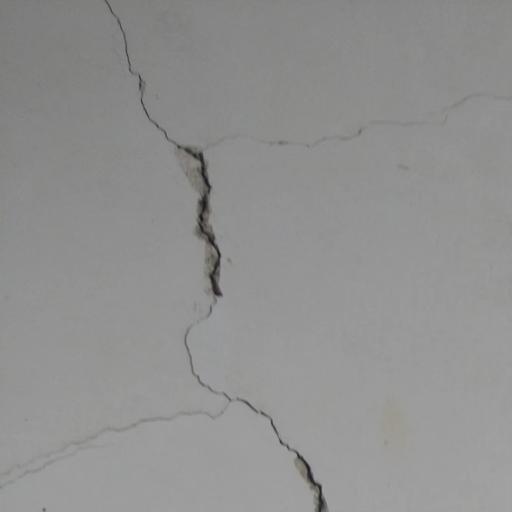major_crack: (88, 0, 345, 512)
